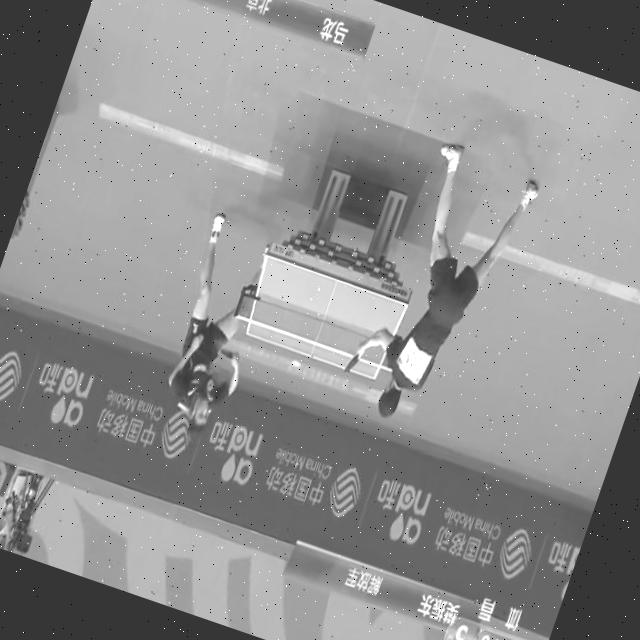ping-pong-ball: (290, 357, 304, 372)
